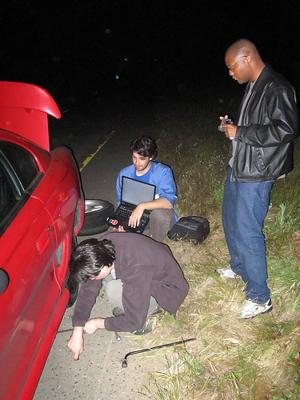person: (67, 226, 190, 362)
